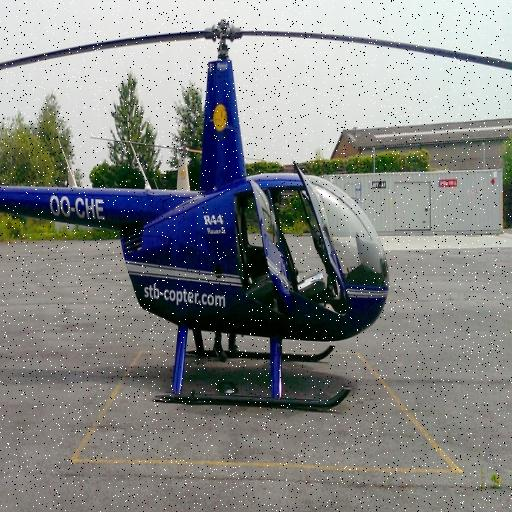helicopter: (1, 16, 441, 422)
